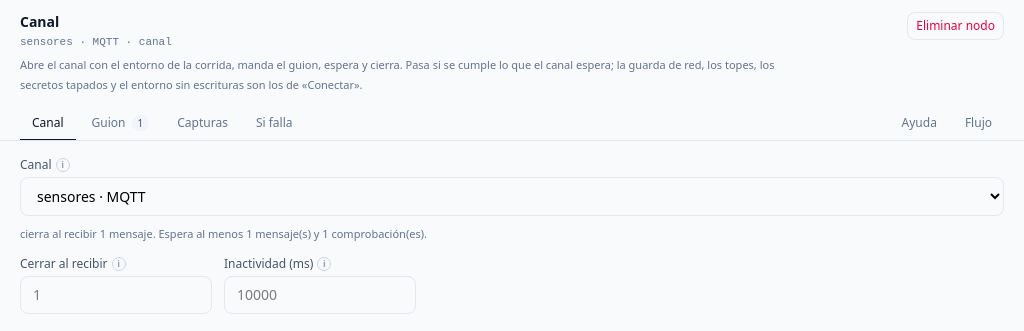
Scenario: el canal, en sus bordes › dice las comprobaciones del canal; cerrar al recibir e inactividad se escriben y vaciados desaparecen
This screenshot has width=1024, height=331.
expect the text "y 1 comprobación(es)." is shown: met, box [20,226,427,240]
Type "3" into the number field named "Mensajes para cerrar".
click(116, 294); type("3")  # box [20,276,212,314]
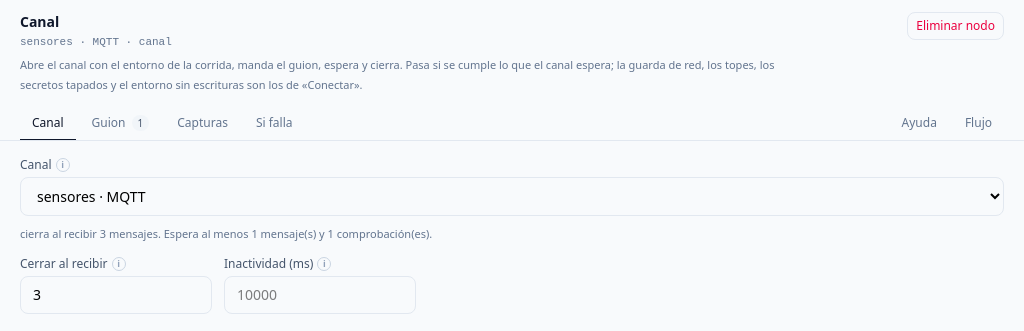
Type "500" into the number field named "Inactividad".
click(320, 294); type("500")  # box [224,276,416,314]
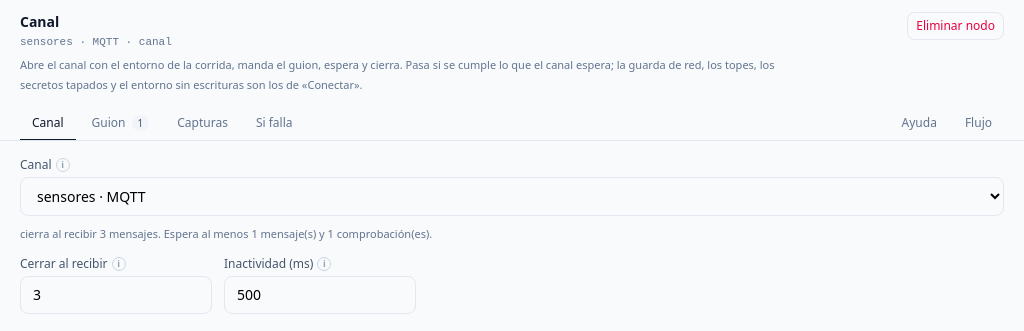
Clear the number field named "Mensajes para cerrar" at (116, 294), box [20,276,212,314]
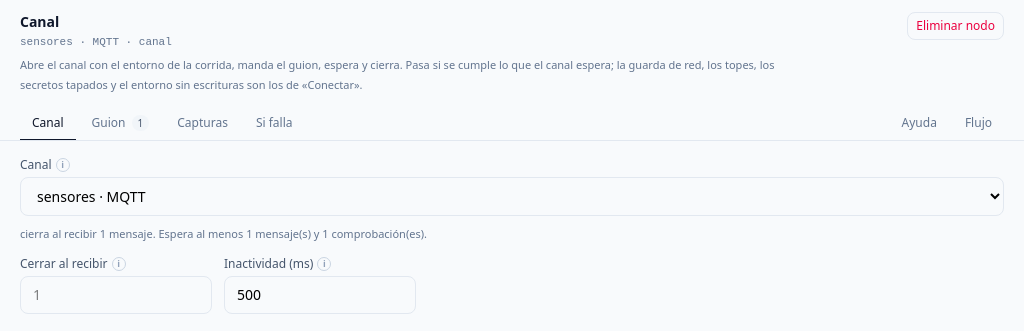
Clear the number field named "Inactividad" at (320, 294), box [224,276,416,314]
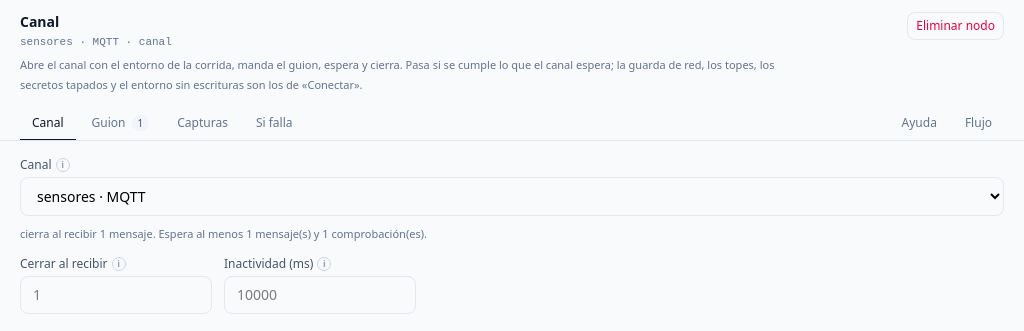
Click the tab "Guion 1".
click(120, 124)  # box [80,106,161,140]
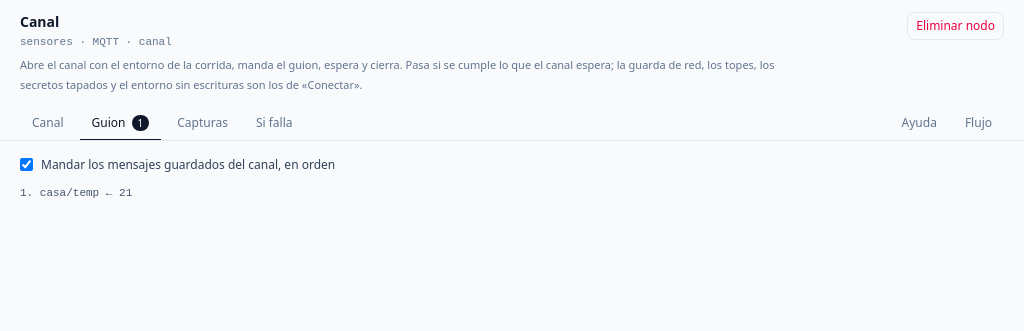
expect the tab "Capturas" is shown: met, box [165,106,240,140]
expect the list item "1. casa/temp ← 21" is shown: met, box [20,186,132,198]
